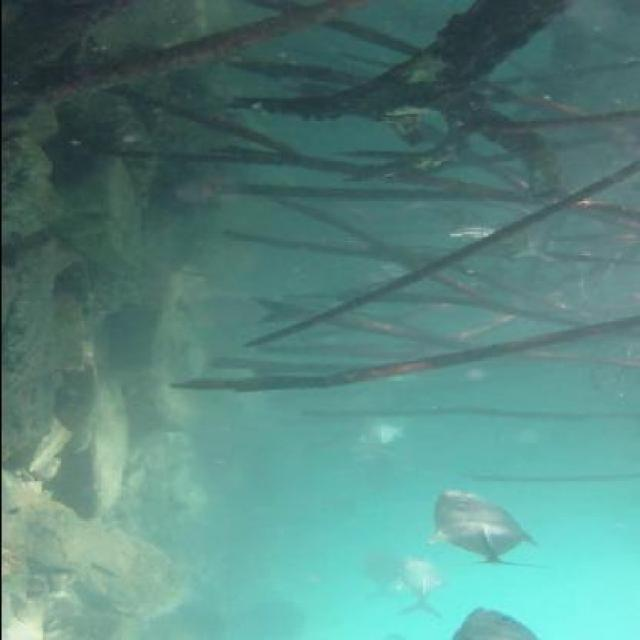Caranx_sexfasciatus_juvenile: (426, 488, 543, 568), (391, 554, 452, 617), (342, 408, 415, 459), (442, 601, 534, 640), (355, 540, 410, 605), (496, 219, 558, 273), (436, 211, 506, 247)
